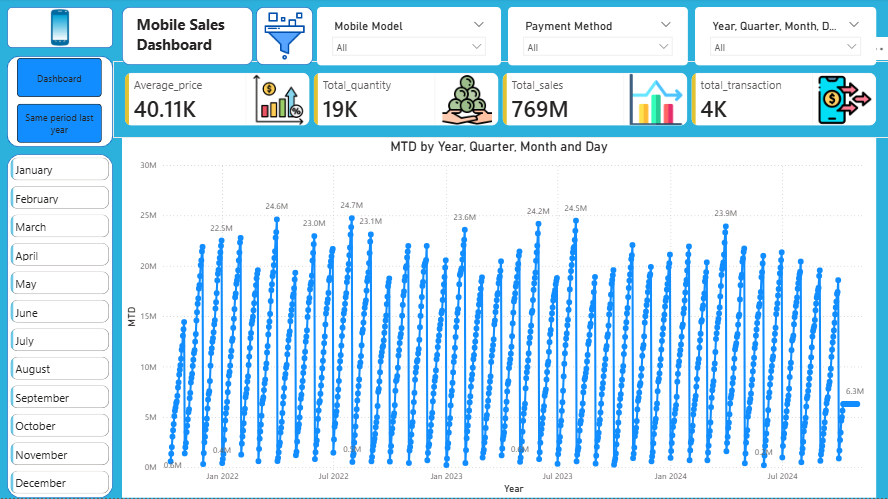

The page's visual inventory and layout, read from the dashboard file:
{"tool":"powerbi","page":{"name":"Month to date","canvas":[1280,720],"ordinal":1},"visuals":[{"type":"shape","box":[10.1,13,152.6,59],"z":0},{"type":"image","box":[63.4,13,46.1,59],"z":1000},{"type":"shape","box":[10.1,83.5,152.6,131],"z":2000},{"type":"cardVisual","fields":{"Data":["mobile sale data.Average_price","mobile sale data.Total_quantity","mobile sale data.Total_sales","mobile sale data.total_transaction"]},"box":[162.7,90.7,1117.4,110.9],"z":3000},{"type":"slicer","fields":{"Values":["mobile sale data.Mobile Model"]},"box":[456.5,13,265,83.5],"z":4000},{"type":"slicer","fields":{"Values":["mobile sale data.Payment Method"]},"box":[731.5,13,259.2,83.5],"z":5000},{"type":"slicer","fields":{"Values":["customed calender.Date.Variation.Date Hierarchy.Year","customed calender.Date.Variation.Date Hierarchy.Quarter","customed calender.Date.Variation.Date Hierarchy.Month","customed calender.Date.Variation.Date Hierarchy.Day"]},"box":[1000.8,13,260.6,83.5],"z":6000},{"type":"shape","box":[369,13,82.1,83.5],"z":7000},{"type":"image","box":[374.4,18.7,70.6,72],"z":8000},{"type":"shape","box":[175.7,13,188.6,83.5],"z":9000},{"type":"textbox","box":[191.5,18.7,158.4,72],"z":10000},{"type":"lineChart","fields":{"Y":["mobile sale data.MTD"],"Category":["customed calender.Date.Variation.Date Hierarchy.Year","customed calender.Date.Variation.Date Hierarchy.Quarter","customed calender.Date.Variation.Date Hierarchy.Month","customed calender.Date.Variation.Date Hierarchy.Day"]},"box":[175.7,201.6,1085.8,518.4],"z":11000},{"type":"shape","box":[10.1,224.6,152.6,495.4],"z":11500},{"type":"advancedSlicerVisual","fields":{"Values":["customed calender.Date.Variation.Date Hierarchy.Month"]},"box":[10.1,224.6,152.6,495.4],"z":12000},{"type":"pageNavigator","box":[24.5,86.4,122.4,123.8],"z":12001}]}

Visuals, with their boxes in screenshot pixels (x1, y1, x2, y2), scaled from the page's 1280x720 canvas onto the 888x499 screenshot:
shape: Rect(7, 9, 113, 50)
image: Rect(44, 9, 76, 50)
shape: Rect(7, 58, 113, 149)
cardVisual - mobile sale data.Average_price x mobile sale data.Total_quantity: Rect(113, 63, 887, 140)
slicer - mobile sale data.Mobile Model: Rect(317, 9, 501, 67)
slicer - mobile sale data.Payment Method: Rect(507, 9, 687, 67)
slicer - customed calender.Date.Variation.Date Hierarchy.Year x customed calender.Date.Variation.Date Hierarchy.Quarter: Rect(694, 9, 875, 67)
shape: Rect(256, 9, 313, 67)
image: Rect(260, 13, 309, 63)
shape: Rect(122, 9, 253, 67)
textbox: Rect(133, 13, 243, 63)
lineChart - mobile sale data.MTD x customed calender.Date.Variation.Date Hierarchy.Year: Rect(122, 140, 875, 498)
shape: Rect(7, 156, 113, 498)
advancedSlicerVisual - customed calender.Date.Variation.Date Hierarchy.Month: Rect(7, 156, 113, 498)
pageNavigator: Rect(17, 60, 102, 146)
